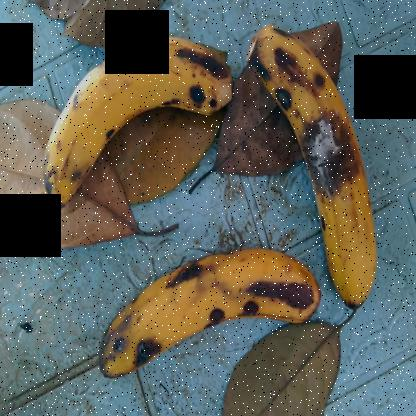overripe: (245, 16, 384, 314), (76, 237, 320, 398)
ripe: (24, 20, 235, 241)
rotten: (288, 107, 370, 219)
